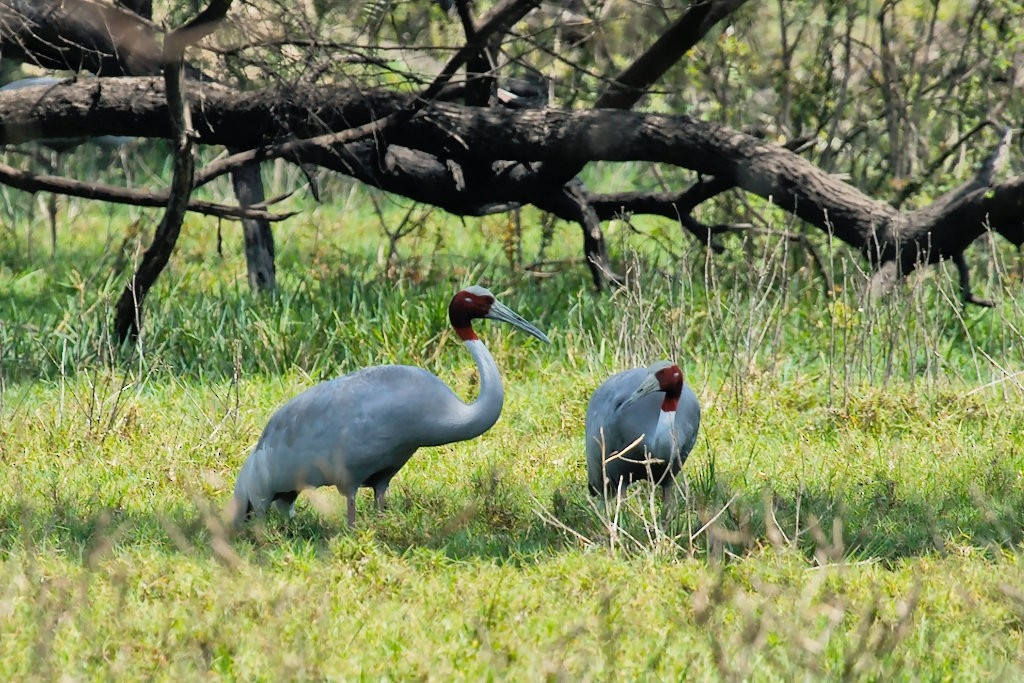crane: (220, 279, 555, 544), (581, 353, 708, 517)
